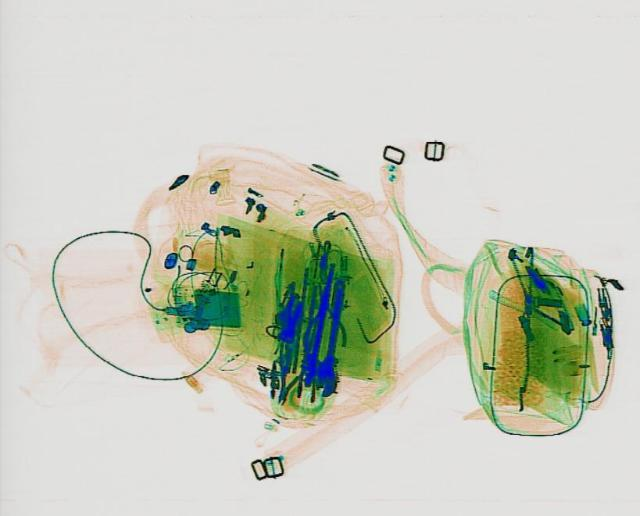Wrench: (313, 278, 349, 397)
